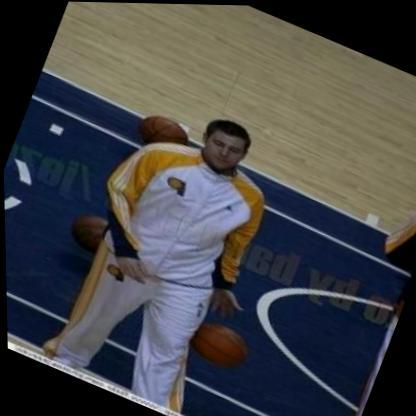basketball: (183, 309, 253, 374), (132, 103, 190, 151), (70, 208, 114, 251)
